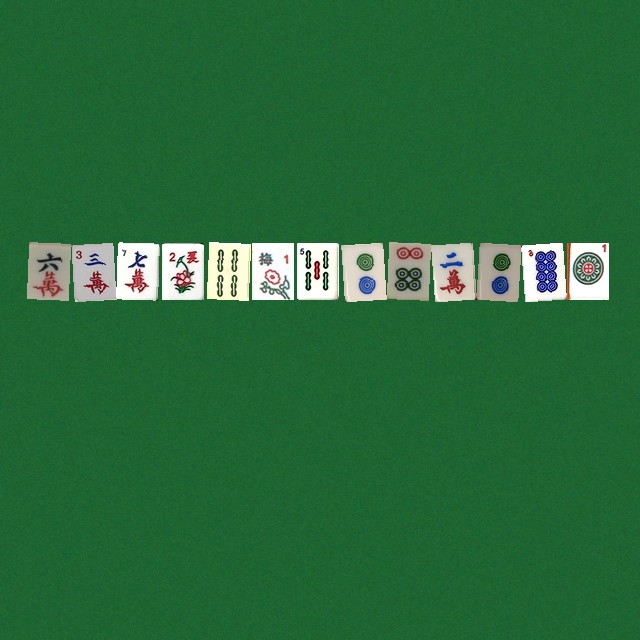tile: (26, 242, 68, 299), (71, 242, 113, 299), (116, 242, 158, 299), (161, 242, 203, 299), (206, 242, 248, 299), (251, 242, 293, 299), (296, 242, 338, 299), (341, 242, 383, 299), (386, 242, 428, 299), (431, 242, 473, 299), (476, 242, 518, 299), (521, 242, 563, 299), (566, 242, 608, 299)
